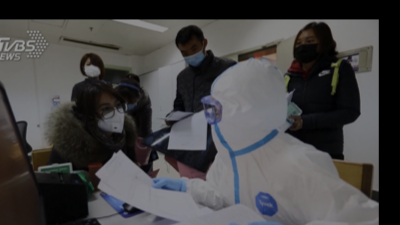with_mask: (97, 100, 125, 136), (292, 34, 320, 65), (181, 42, 204, 67), (81, 61, 101, 79)
